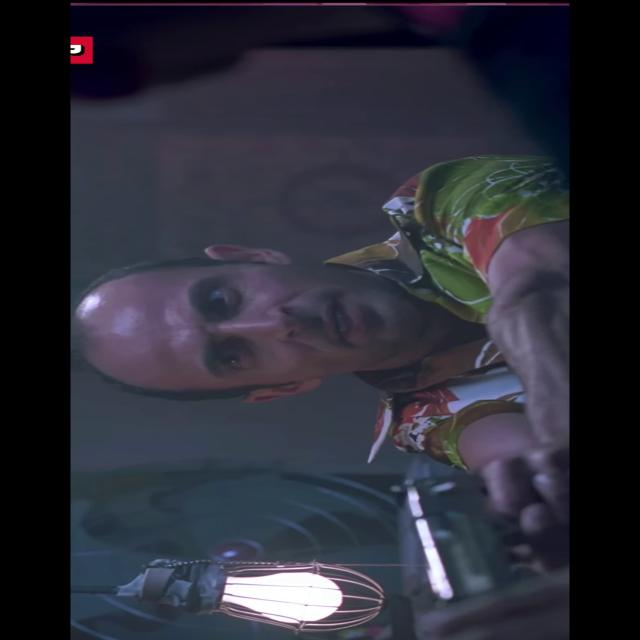weapons: (353, 458, 568, 610)
